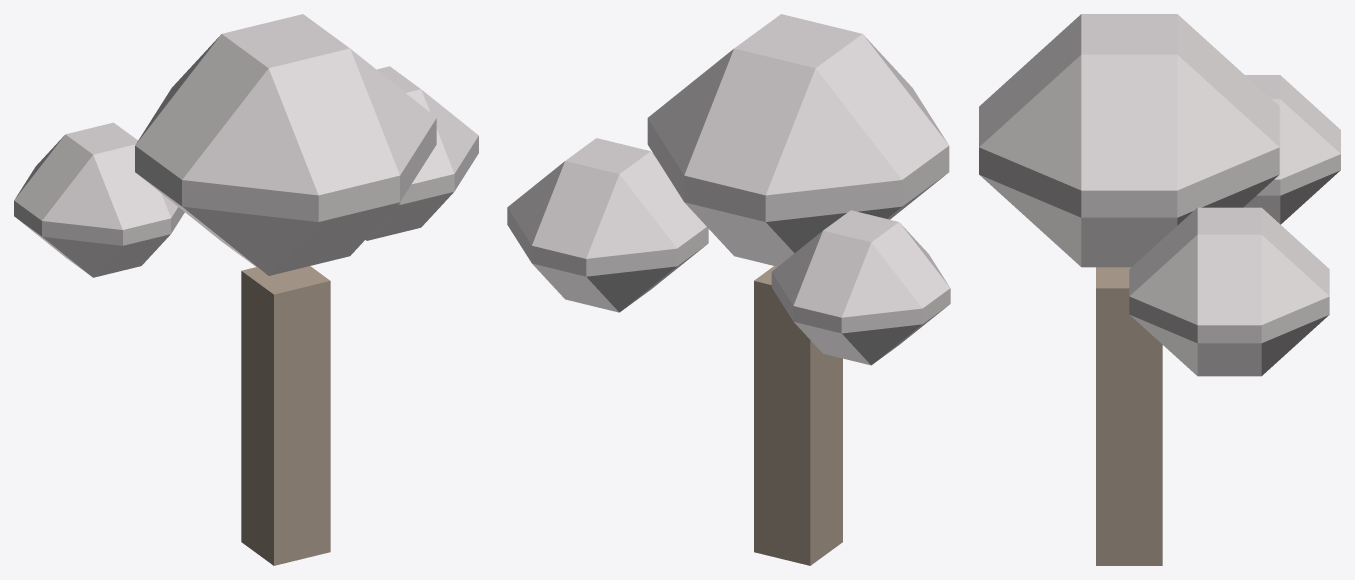
Rendered from prop_blossom.glb.
The picture shows the model from 3 angles, left to right: view 1: azimuth 30°, elevation 25°; view 2: azimuth 150°, elevation 25°; view 3: azimuth 270°, elevation 25°; orthographic projection. The views are drawn at different scales.
Parts seen in each view (by area): view 1: prop_blossom; view 2: prop_blossom; view 3: prop_blossom.
Part boxes in pixels (<box>): prop_blossom: <box>14,14,478,565</box>; prop_blossom: <box>507,14,950,565</box>; prop_blossom: <box>979,14,1340,565</box>.
Size of the model in its own units: 0.09 by 0.1026 by 0.065.
